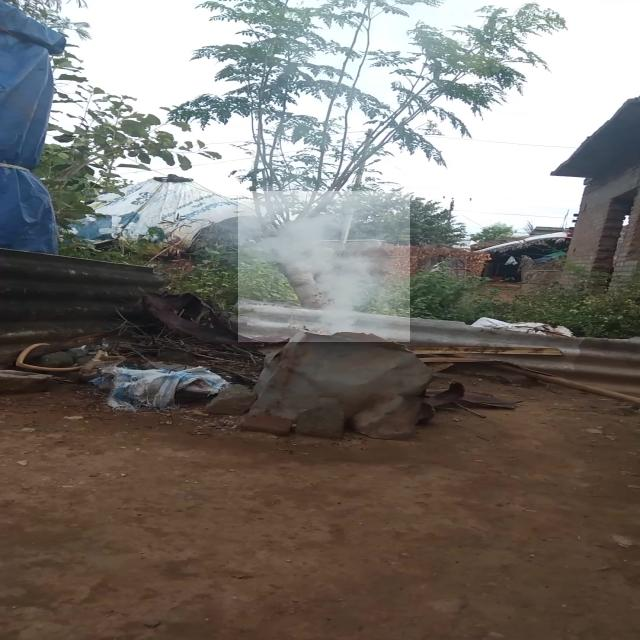Smoke: (238, 191, 410, 342)
